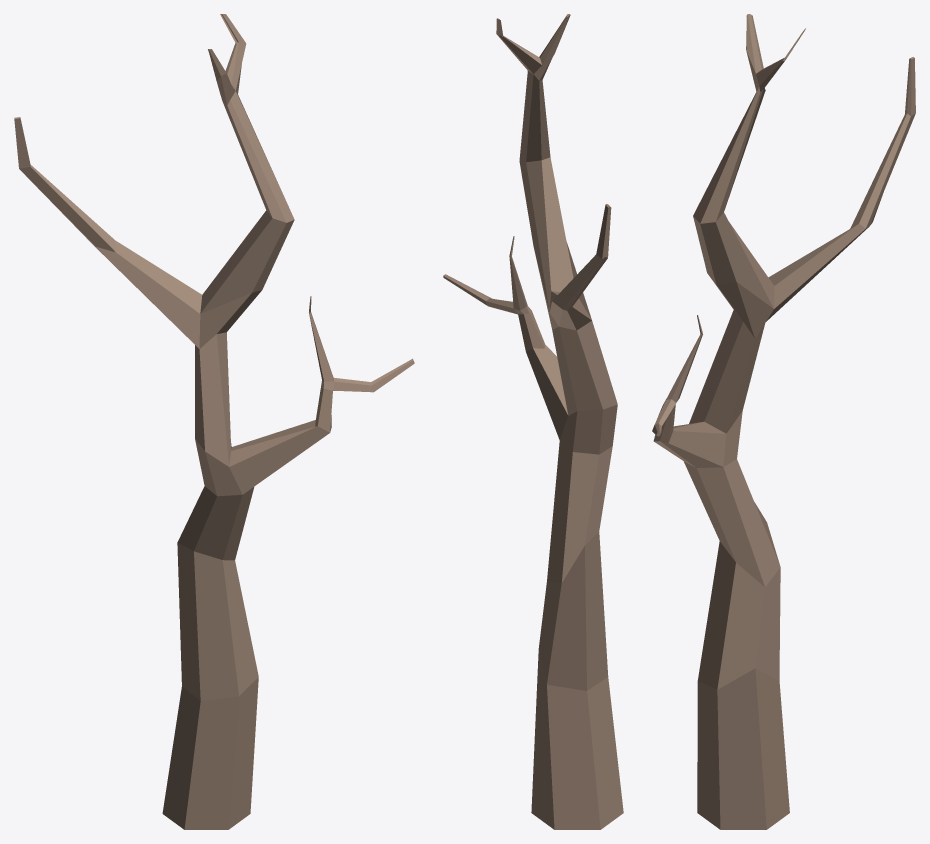
Rendered from deadtree.fbx.
3 views of the same model, side by side, from view 1: azimuth 30°, elevation 25°; view 2: azimuth 150°, elevation 25°; view 3: azimuth 270°, elevation 25° (orthographic). The views are drawn at different scales.
Parts seen in each view (by area): view 1: Tree; view 2: Tree; view 3: Tree.
Part boxes in pixels (box(x1,y1,x2,y2)): Tree: box(14, 14, 414, 829); Tree: box(443, 14, 623, 829); Tree: box(652, 14, 915, 829).
Bounding box in the file's own units: 163 × 426 × 126.
